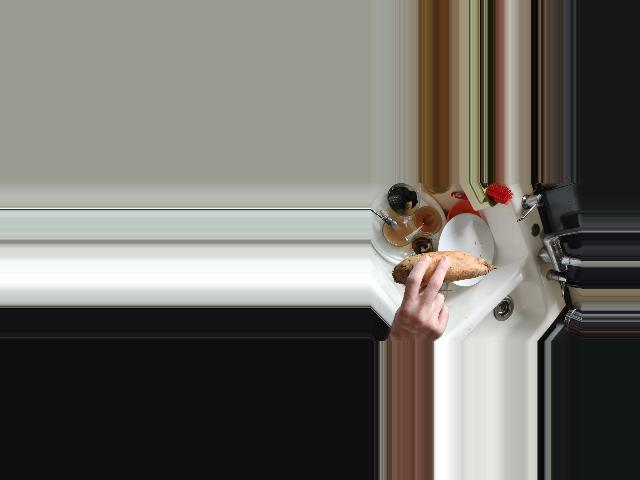sweet_potato: (388, 252, 501, 290)
